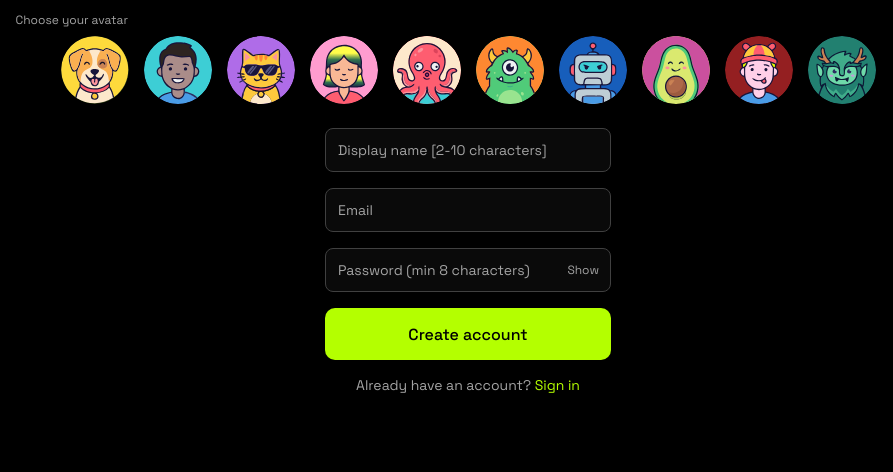
Test: SignupForm › clears a stale server field error once the player edits that field (QA1 round 1, should-fix item 4)
In the field labelled "Display name": (468, 150) [325,128,611,172], type "Taken"
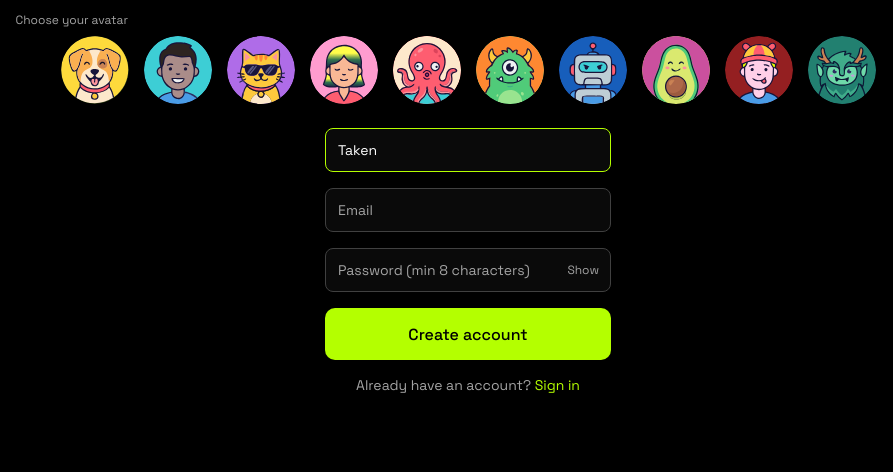
Click the button "Create account": (468, 334) [325,308,611,360]
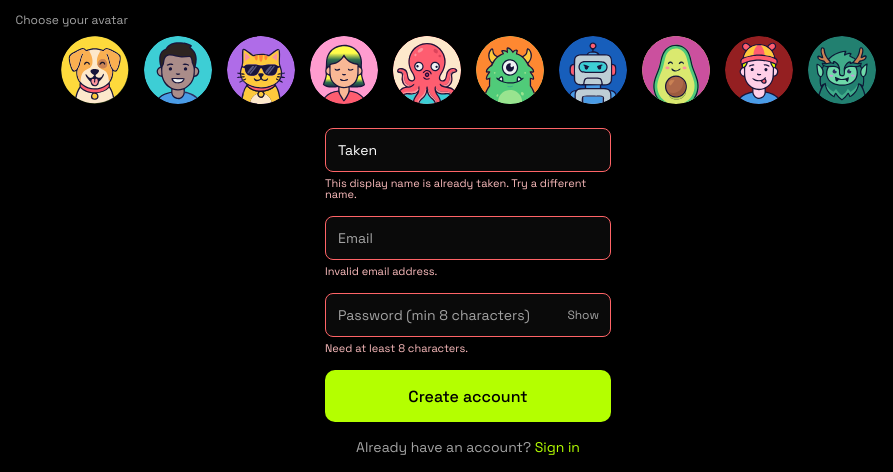
Check: the text "This display name is already taken. Try a different name." is shown, box [325,178,611,200]
In the field named "Display name": (468, 150) [325,128,611,172], type "2"
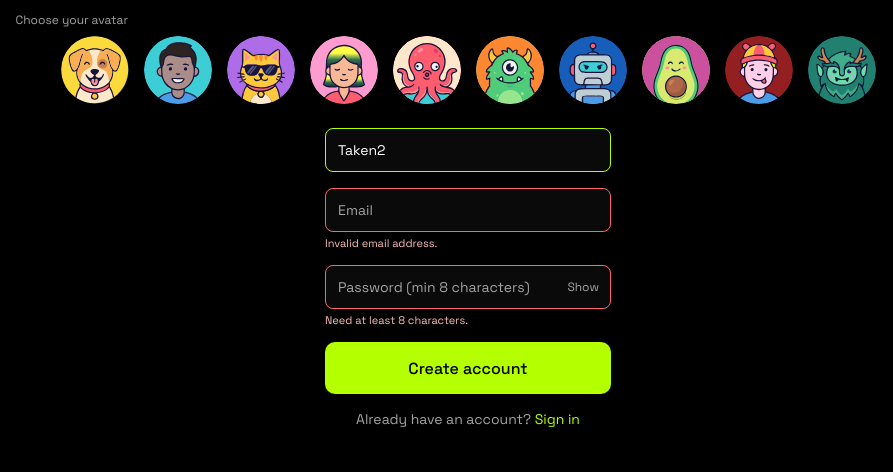
Check: the text "This display name is already taken. Try a different name." is gone
